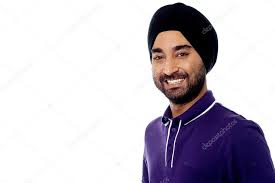Indian_Male: (144, 16, 203, 98)
